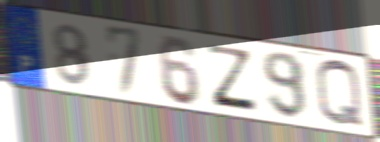6: (156, 33, 203, 108)
7: (103, 24, 144, 101)
8: (50, 23, 91, 88)
9: (261, 50, 308, 123)
Q: (312, 57, 367, 131)
Z: (206, 42, 260, 114)
